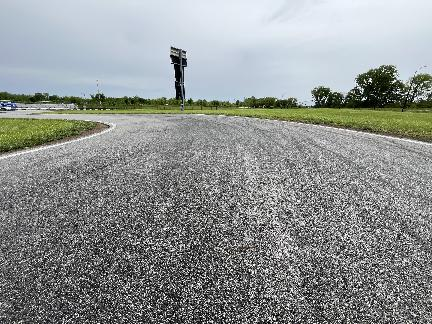Grass: (42, 109, 431, 139), (0, 118, 97, 151)
Lane: (0, 113, 431, 323)
